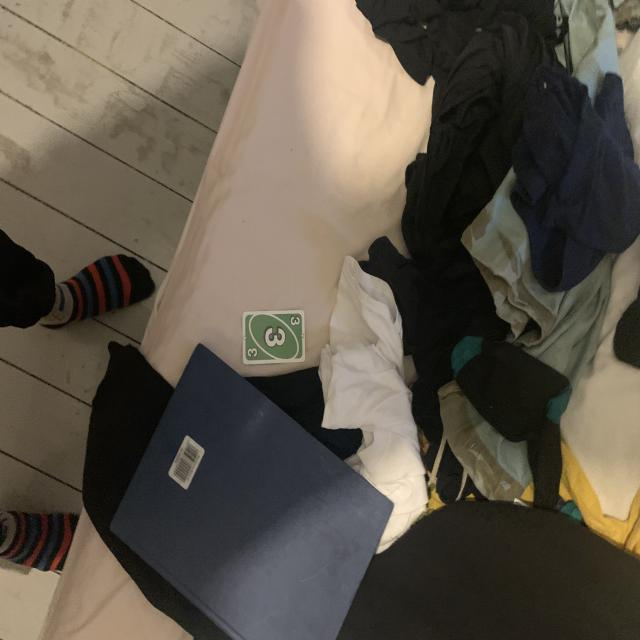lgreen-3: (288, 314, 302, 328)
